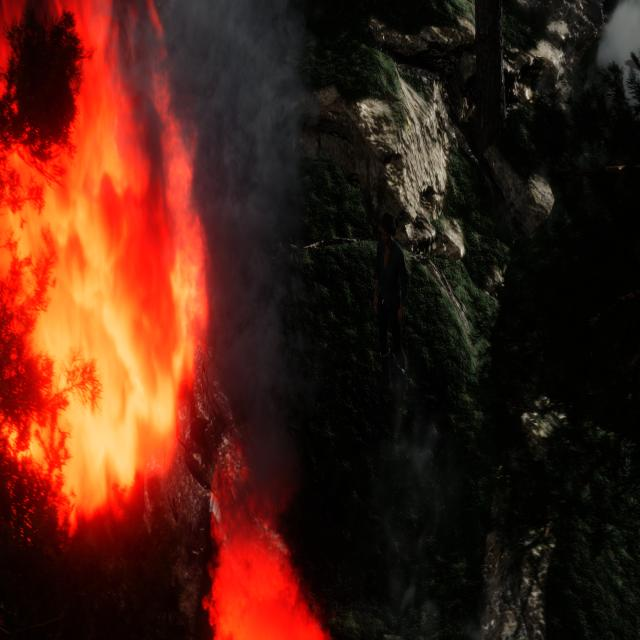Human: (370, 209, 413, 411)
